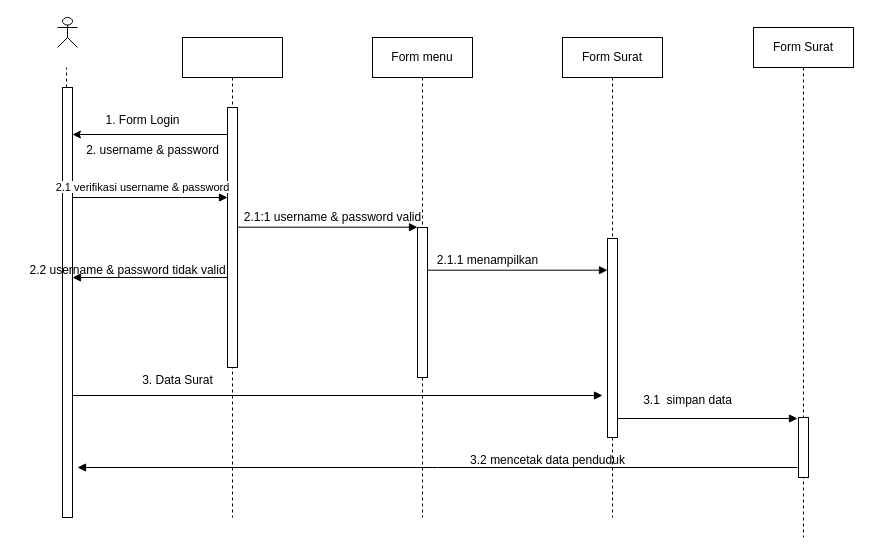
Image size: 871x555. Some labels were removed from this diagram. Here are the shapes that lost their labels. From the top down, the box of each, then its label:
(56, 16, 78, 48): Administrator
(182, 36, 282, 518): Form Login
